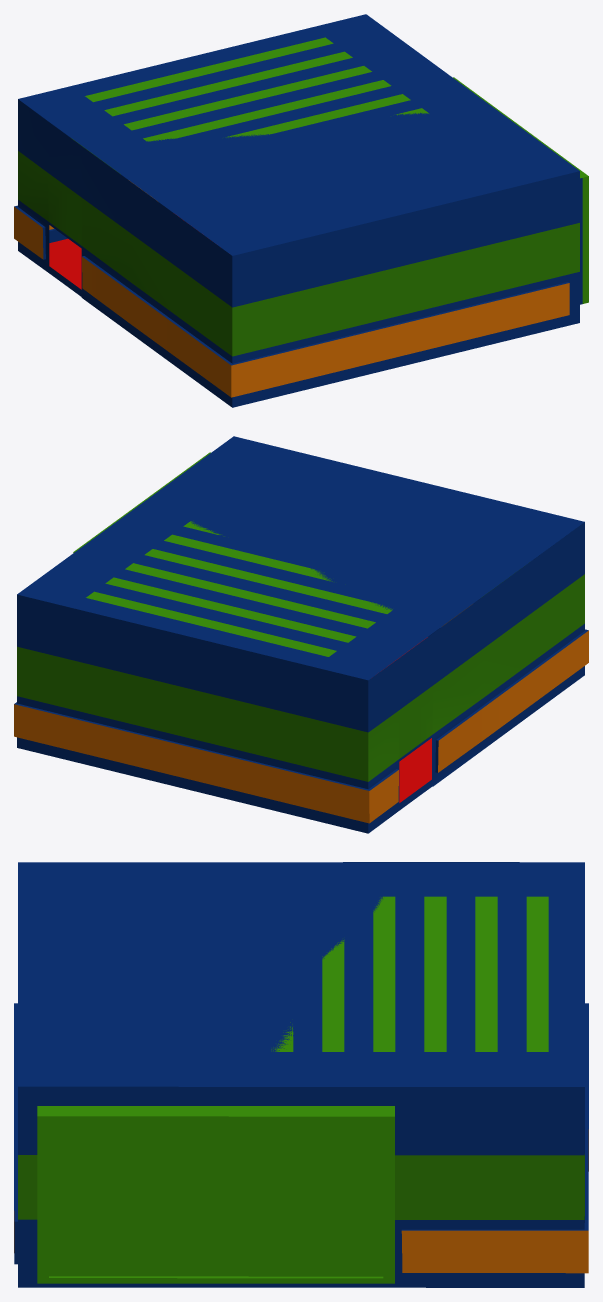
The model's file is vb_hangar_bay.fbx.
The picture shows the model from 3 angles, top to bottom: view 1: azimuth 30°, elevation 25°; view 2: azimuth 150°, elevation 25°; view 3: azimuth 270°, elevation 25°; orthographic projection. The views are drawn at different scales.
Visible parts, largest first — view 1: hangar_bay_walls, hangar_bay_roof_lights, hangar_bay_door_frame; view 2: hangar_bay_walls, hangar_bay_roof_lights; view 3: hangar_bay_walls, hangar_bay_door_1, hangar_bay_door_2, hangar_bay_roof_lights, hangar_bay_door_frame.
Boxes of the visible parts, <box> form: hangar_bay_walls: <box>14,14,582,407</box>; hangar_bay_roof_lights: <box>85,37,428,141</box>; hangar_bay_door_frame: <box>453,77,588,303</box>; hangar_bay_walls: <box>14,436,588,833</box>; hangar_bay_roof_lights: <box>86,521,392,656</box>; hangar_bay_walls: <box>14,862,588,1287</box>; hangar_bay_door_1: <box>216,1122,383,1276</box>; hangar_bay_door_2: <box>49,1122,216,1276</box>; hangar_bay_roof_lights: <box>271,896,548,1051</box>; hangar_bay_door_frame: <box>37,1106,394,1283</box>.
Bounding box in the file's own units: 49.39 × 19.53 × 50.66.
